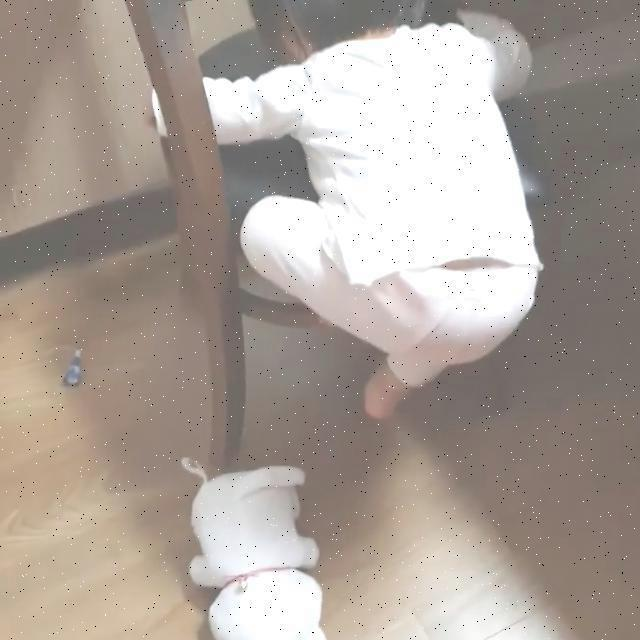child: (149, 0, 530, 425)
